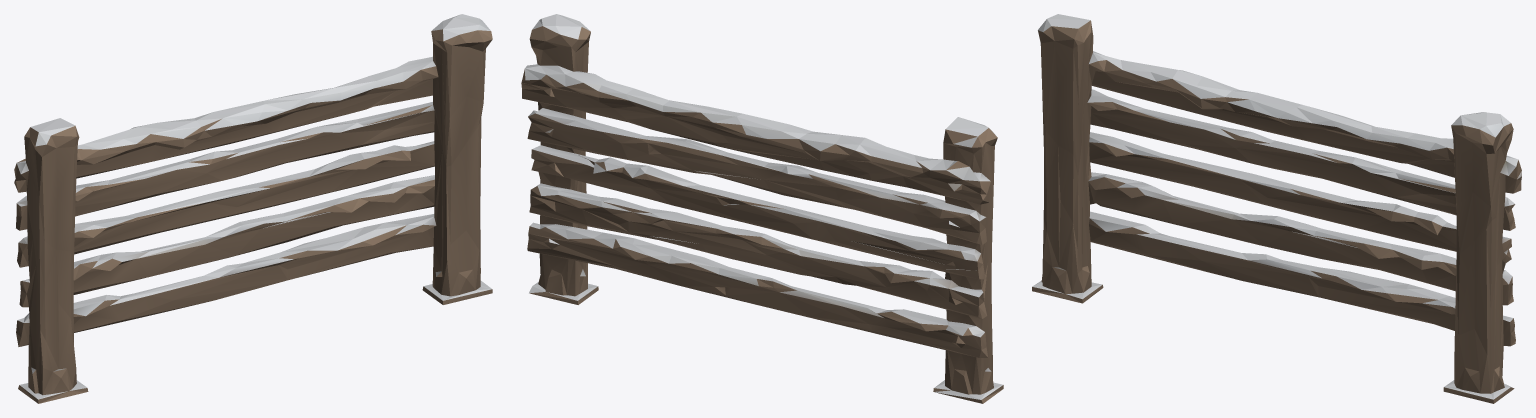
The model's file is gen-fence.glb.
3 views of the same model, side by side, from view 1: azimuth 30°, elevation 25°; view 2: azimuth 150°, elevation 25°; view 3: azimuth 330°, elevation 25° (orthographic).
Parts seen in each view (by area): view 1: model; view 2: model; view 3: model.
Boxes of the visible parts, x1=… form: model: x1=14, y1=14, x2=492, y2=403; model: x1=521, y1=14, x2=1003, y2=403; model: x1=1032, y1=14, x2=1521, y2=403.
Bounding box in the file's own units: 3.15 × 1.75 × 0.34.
